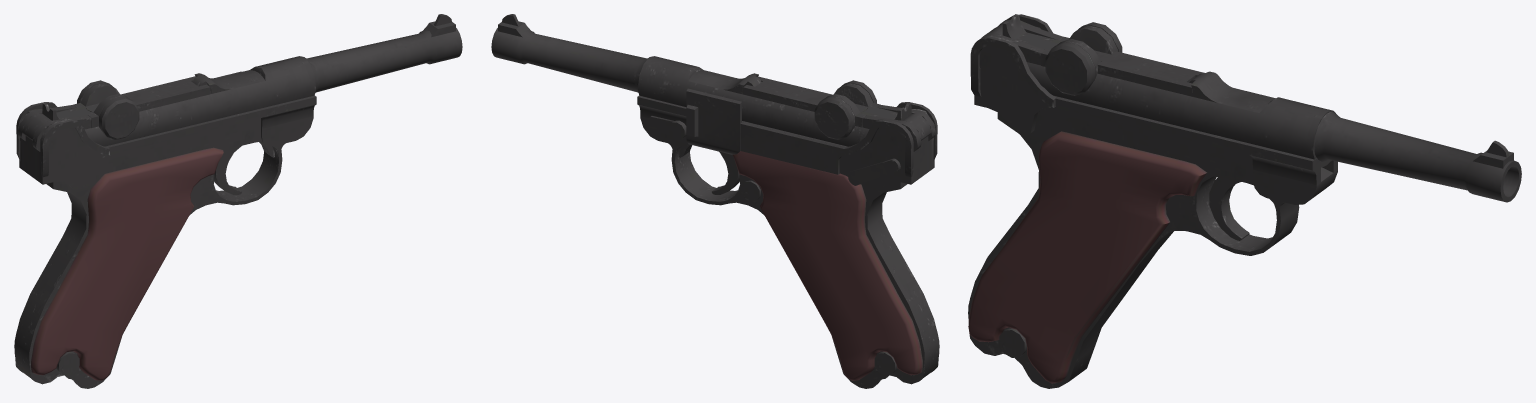
The model's file is Luger.glb.
3 renders of one model, left to right at view 1: azimuth 30°, elevation 25°; view 2: azimuth 150°, elevation 25°; view 3: azimuth 330°, elevation 25°, orthographic. The views are drawn at different scales.
Visible parts, largest first — view 1: Luger; view 2: Luger; view 3: Luger.
Boxes of the visible parts, x1=… form: Luger: x1=14, y1=14, x2=462, y2=388; Luger: x1=491, y1=14, x2=939, y2=388; Luger: x1=968, y1=14, x2=1521, y2=388.
Bounding box in the file's own units: 0.222 × 0.1405 × 0.0264.
Materials: 1 (1 with a texture image).
